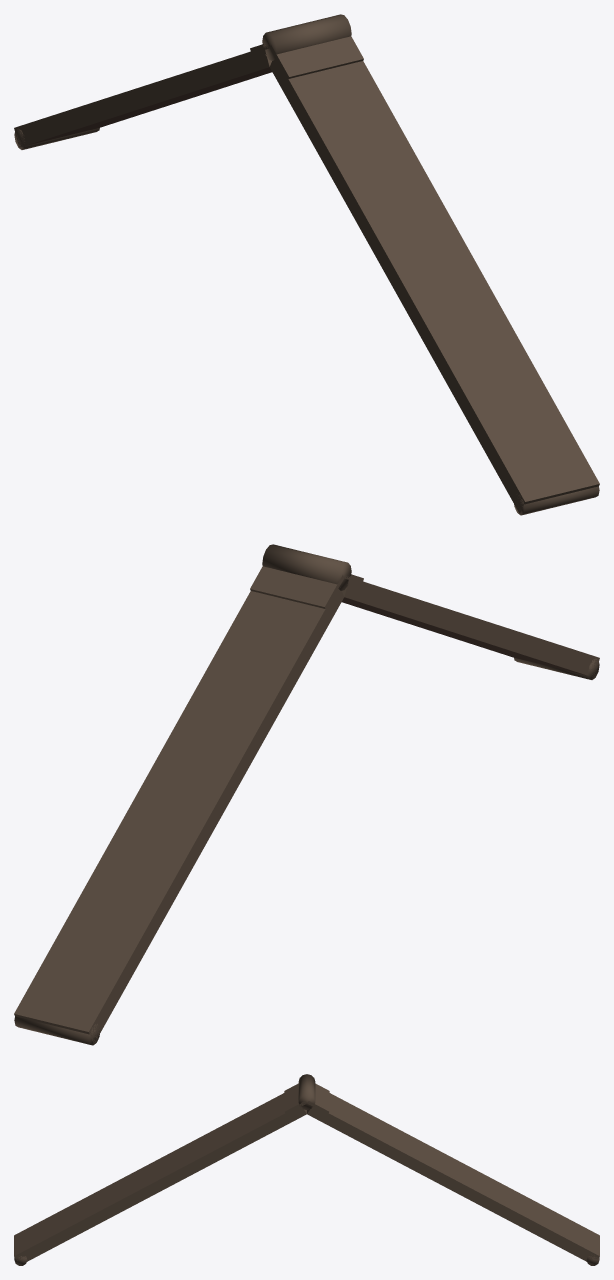
File: kit_timber_thatch_w11.glb
3 views of the same model, one above another, from view 1: azimuth 30°, elevation 25°; view 2: azimuth 150°, elevation 25°; view 3: azimuth 270°, elevation 25° (orthographic). The views are drawn at different scales.
Visible parts, largest first — view 1: kit_timber_thatch_w11; view 2: kit_timber_thatch_w11; view 3: kit_timber_thatch_w11.
Part boxes in pixels (x1,y1,x2,y2): kit_timber_thatch_w11: (14, 14, 599, 515); kit_timber_thatch_w11: (14, 544, 599, 1045); kit_timber_thatch_w11: (14, 1074, 599, 1265).
Size of the model in its own units: 1 by 3.81 by 11.84.
